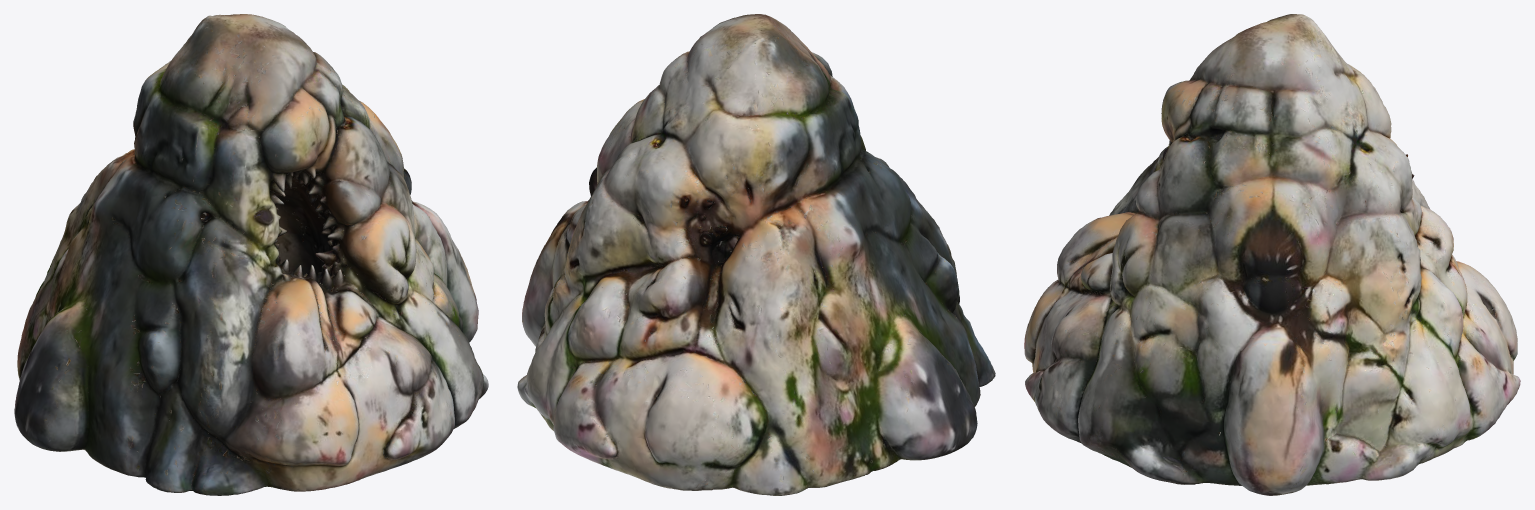
Rendered from Grikkitog_final.glb.
3 views of the same model, side by side, from view 1: azimuth 30°, elevation 25°; view 2: azimuth 150°, elevation 25°; view 3: azimuth 270°, elevation 25° (orthographic).
Visible parts, largest first — view 1: Mesh_0; view 2: Mesh_0; view 3: Mesh_0.
Boxes of the visible parts, <box> form: Mesh_0: <box>14,14,488,495</box>; Mesh_0: <box>517,14,995,495</box>; Mesh_0: <box>1024,14,1520,495</box>.
Bounding box in the file's own units: 3.72 × 3 × 3.63.
1 material, 1 textured.
